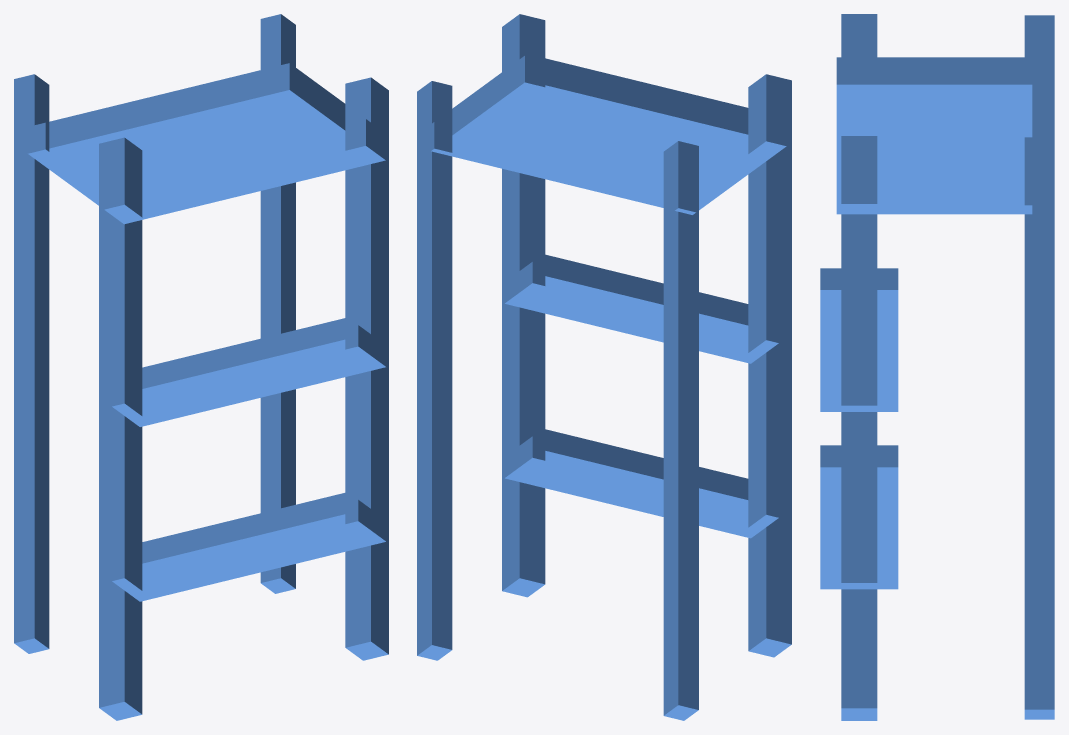
File: site_step_ladder.gltf
3 renders of one model, left to right at view 1: azimuth 30°, elevation 25°; view 2: azimuth 150°, elevation 25°; view 3: azimuth 270°, elevation 25°, orthographic.
Parts seen in each view (by area): view 1: site_step_ladder; view 2: site_step_ladder; view 3: site_step_ladder.
Boxes of the visible parts, x1,y1,x2,y2 form: site_step_ladder: (14, 14, 388, 720); site_step_ladder: (417, 14, 791, 720); site_step_ladder: (820, 14, 1054, 720).
Bounding box in the file's own units: 1.06 × 2.1 × 0.78.
